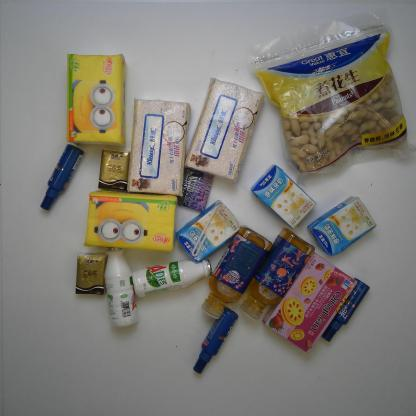Dessert: (263, 252, 362, 355)
Dried Food: (246, 3, 416, 180)
Drink: (238, 228, 318, 324), (199, 223, 274, 323)
Gum: (179, 162, 213, 215)
Milk: (309, 194, 383, 259), (173, 200, 248, 264), (250, 162, 317, 230), (131, 254, 216, 302), (100, 240, 140, 336)
Personal Hygiene: (320, 277, 376, 345), (193, 306, 240, 378), (38, 143, 86, 213)
Tissue: (182, 76, 267, 186), (123, 98, 189, 198), (63, 50, 126, 146), (81, 193, 176, 253), (70, 248, 107, 300), (95, 146, 132, 194)
